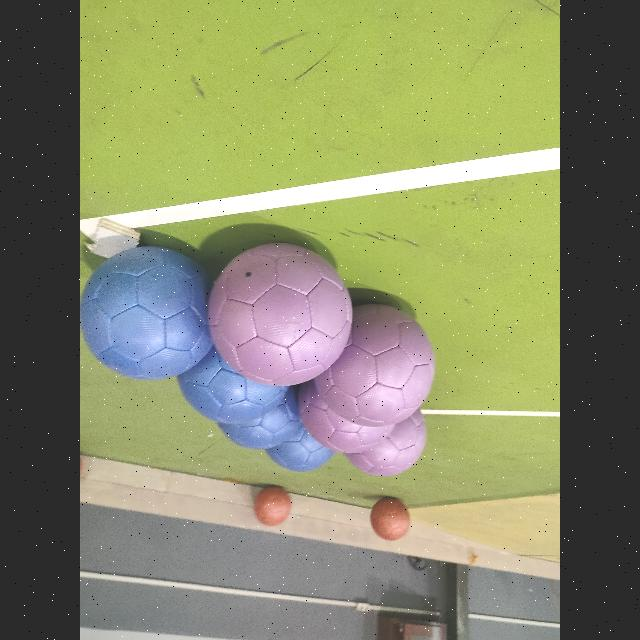B: (80, 247, 212, 379), (178, 334, 286, 426), (218, 388, 300, 449), (264, 411, 332, 474)
P: (208, 245, 354, 385), (314, 304, 434, 426), (302, 366, 390, 448), (341, 405, 431, 481)
R: (370, 498, 410, 540), (254, 488, 292, 526), (80, 452, 82, 484)
